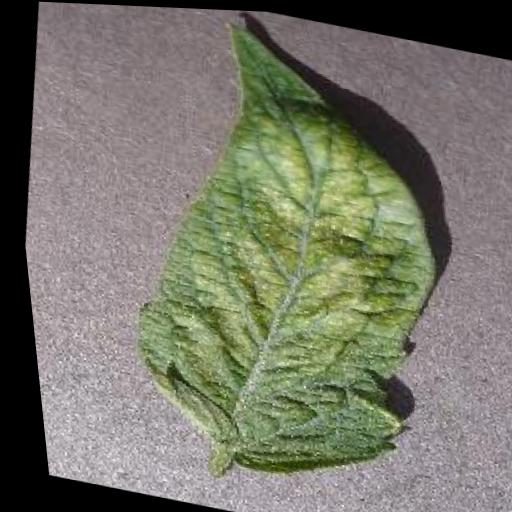Spider Mites: (82, 3, 479, 500)
